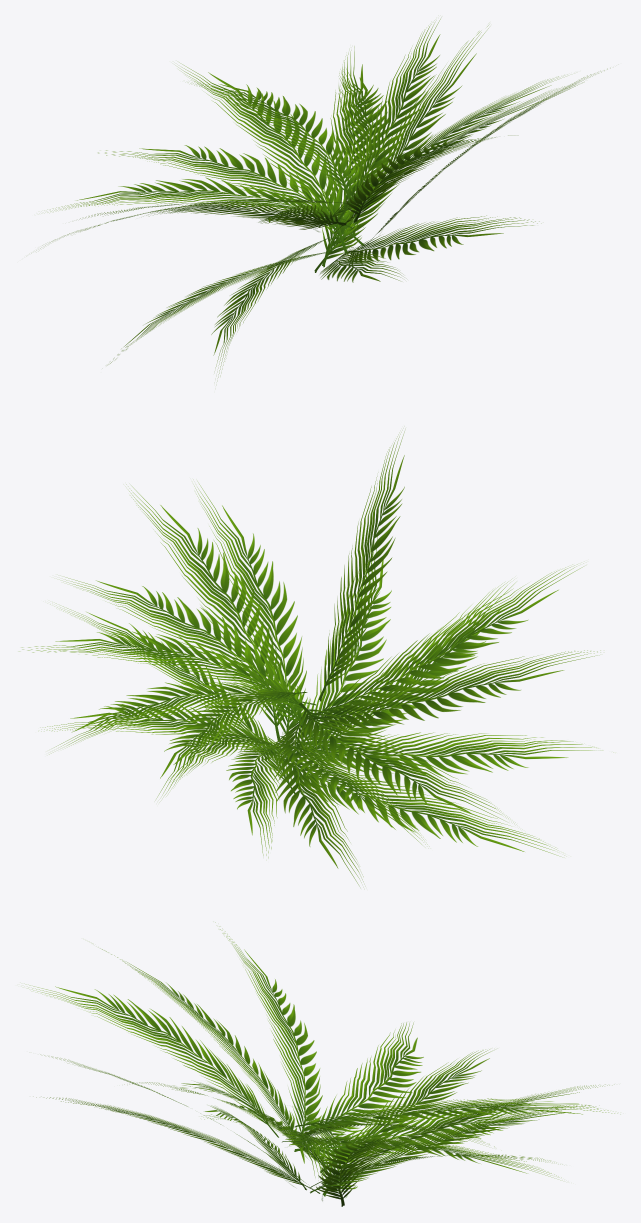
The model's file is plane.073_lev3.glb.
3 views of the same model, one above another, from view 1: azimuth 30°, elevation 25°; view 2: azimuth 150°, elevation 25°; view 3: azimuth 270°, elevation 25° (orthographic). The views are drawn at different scales.
Parts seen in each view (by area): view 1: plane.073_lev3; view 2: plane.073_lev3; view 3: plane.073_lev3.
Part boxes in pixels (box(x1,y1,x2,y2)): plane.073_lev3: box(40, 19, 610, 377); plane.073_lev3: box(19, 431, 602, 886); plane.073_lev3: box(29, 922, 620, 1206).
Bounding box in the file's own units: 1.83 × 0.8679 × 1.79.
Materials: 1 (1 with a texture image).
